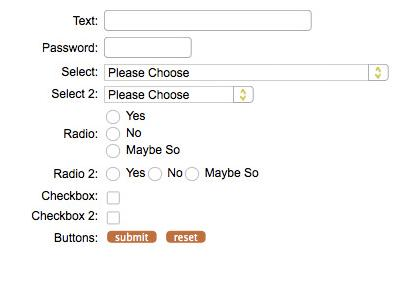button: (106, 230, 158, 245), (165, 230, 207, 244)
checkbox: (105, 209, 123, 226), (105, 189, 122, 206)
checkbox_with_label: (31, 208, 124, 228), (42, 188, 124, 207)
field: (102, 63, 390, 81), (102, 9, 313, 33), (103, 85, 255, 104), (103, 36, 193, 59)
field_with_label: (60, 61, 393, 83), (74, 8, 315, 35), (50, 84, 258, 105), (41, 34, 195, 60)
radio: (183, 165, 200, 183), (105, 108, 122, 125), (105, 126, 122, 142), (105, 143, 122, 159), (105, 166, 121, 182), (147, 165, 162, 182)
radio_with_label: (182, 164, 262, 184), (104, 143, 180, 161), (103, 106, 148, 126), (103, 164, 145, 183), (103, 124, 142, 144), (145, 164, 183, 183)
